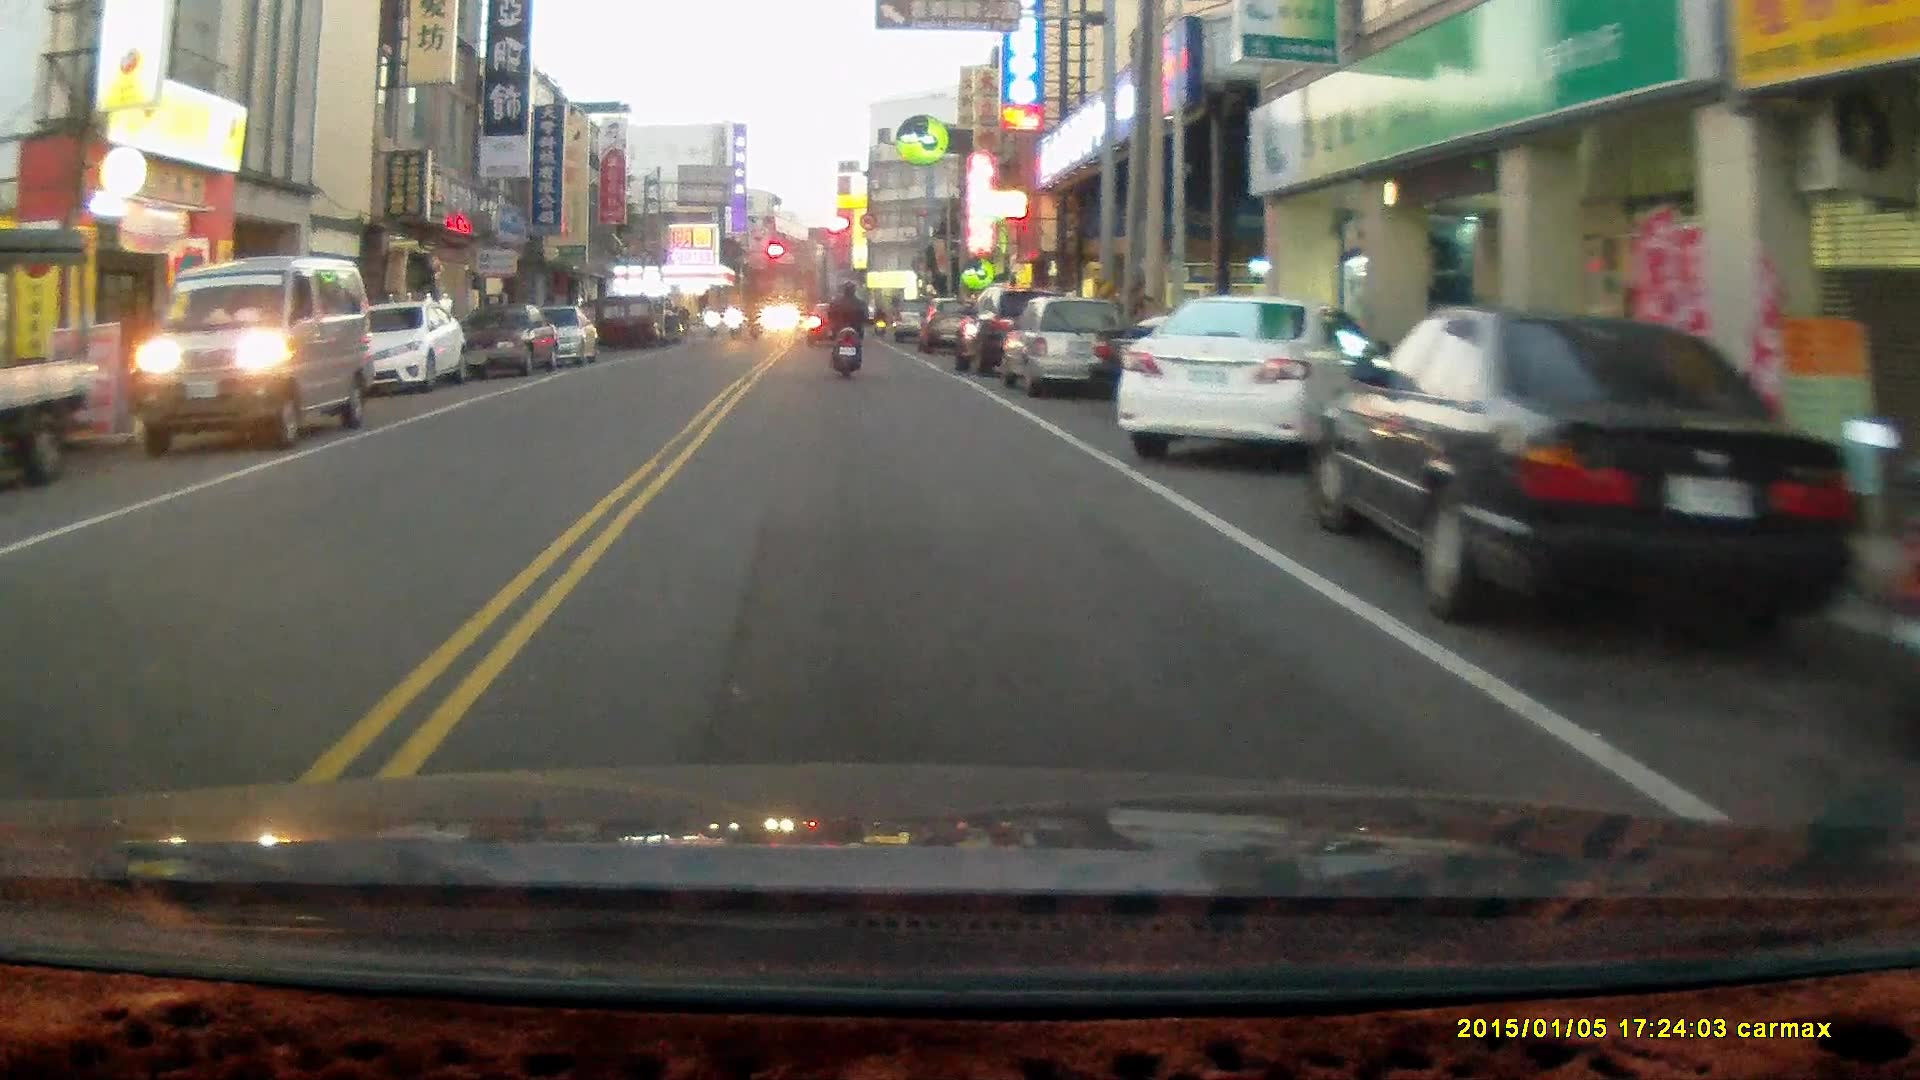rider: (825, 277, 871, 379)
vehicle: (1311, 303, 1875, 624), (141, 254, 376, 450), (1116, 290, 1377, 465), (0, 220, 88, 488), (999, 292, 1133, 393), (347, 299, 470, 390)
